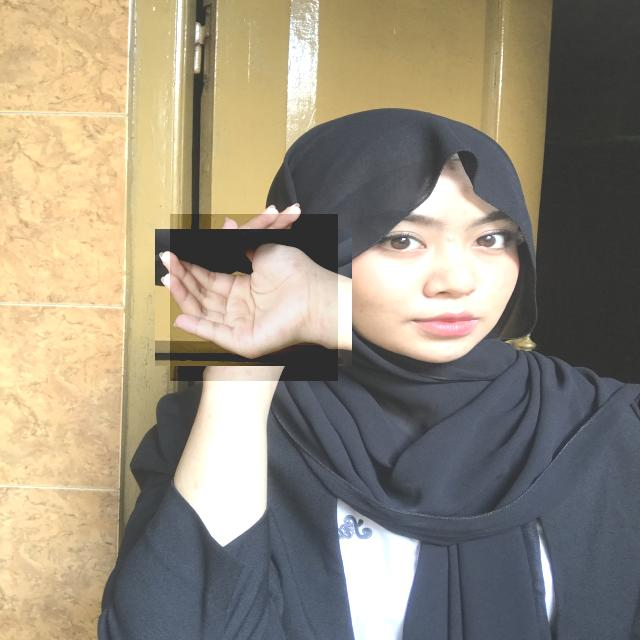mendengar: (170, 214, 338, 381)
